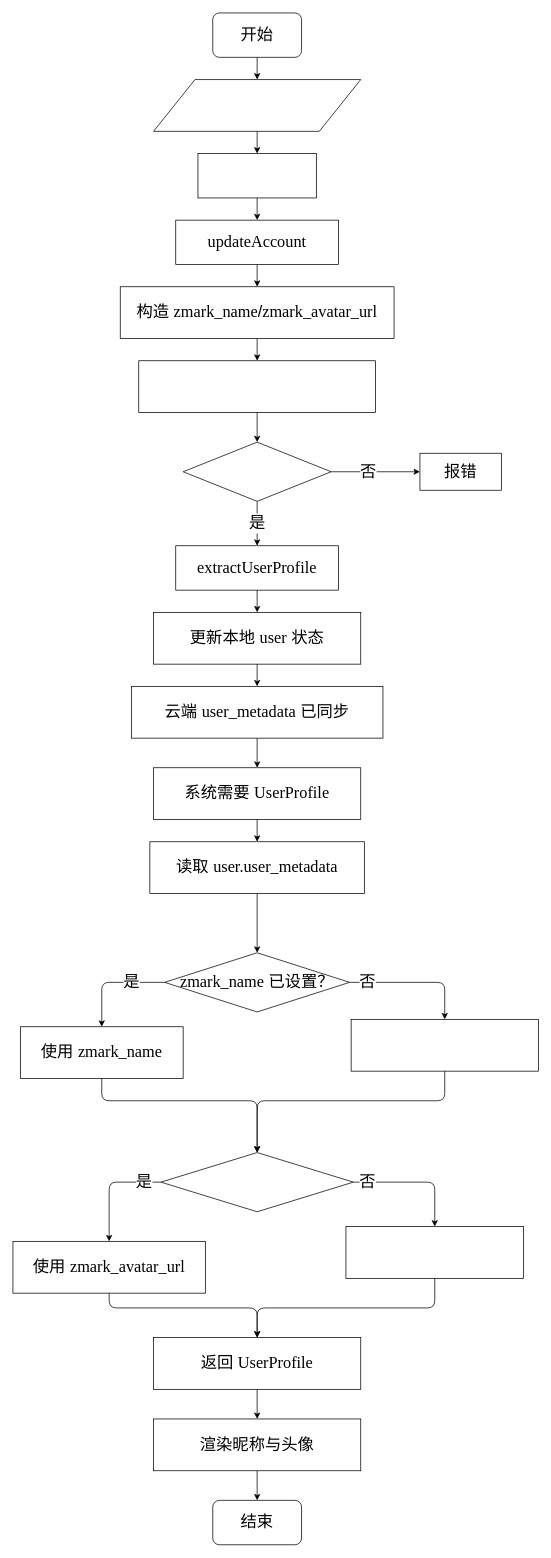
This 551x1558 diagram has some shape labels left out. The shapes that lost their labels are listed below. From the top down, each one's centre as x and y in pixels, then its label:
At (257,105): "用户编辑昵称/头像 URL".
At (256,175): "点击确认".
At (257,386): "supabase.auth.updateUser".
At (256,471): "更新成功？".
At (444,1045): "使用 full_name / name / null".
At (256,1182): "zmark_avatar_url 已设置？".
At (434,1252): "使用 avatar_url / null".
